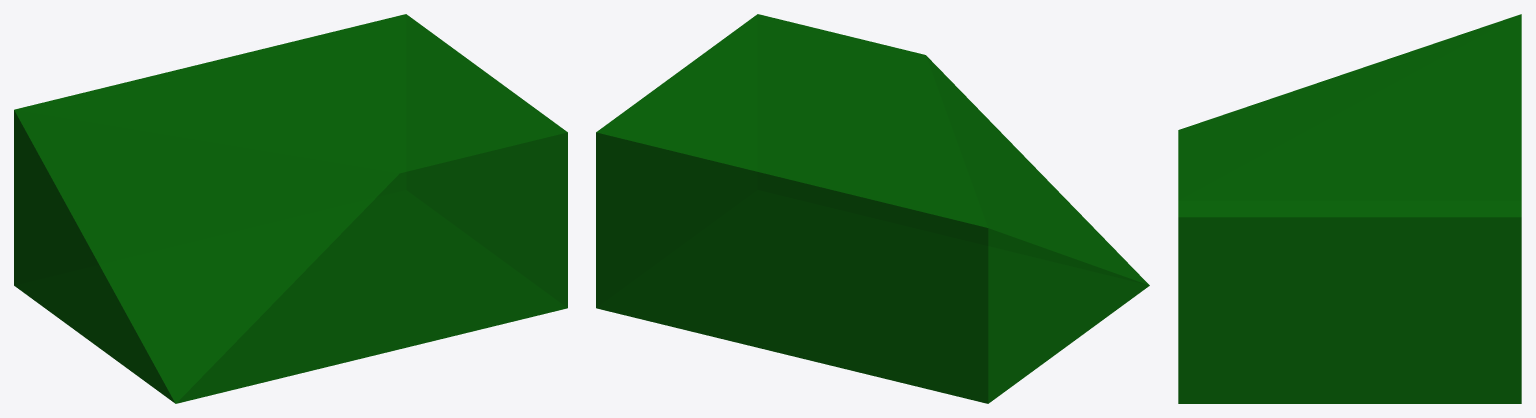
3 renders of one model, left to right at view 1: azimuth 30°, elevation 25°; view 2: azimuth 150°, elevation 25°; view 3: azimuth 270°, elevation 25°, orthographic. The views are drawn at different scales.
Visible parts, largest first — view 1: SketchUp; view 2: SketchUp; view 3: SketchUp.
Part boxes in pixels (x1=…): SketchUp: x1=14, y1=14, x2=567, y2=403; SketchUp: x1=596, y1=14, x2=1149, y2=403; SketchUp: x1=1178, y1=14, x2=1521, y2=403.
Bounding box in the file's own units: 276 × 197 × 118.
